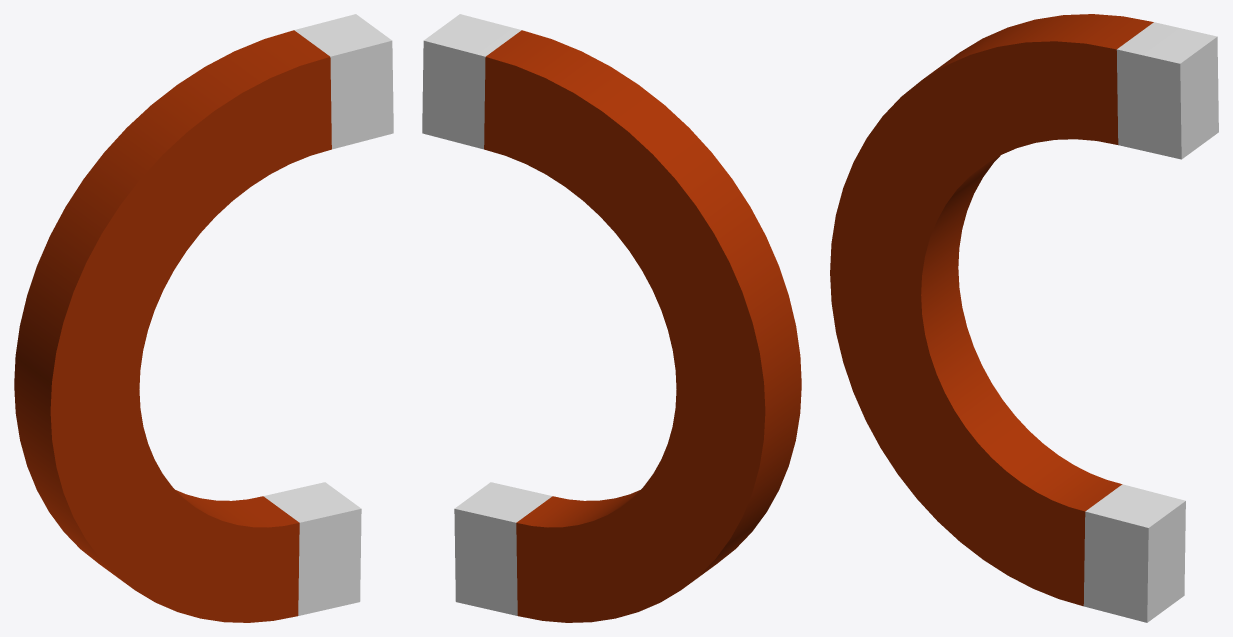
File: Magnet.fbx
The picture shows the model from 3 angles, left to right: view 1: azimuth 30°, elevation 25°; view 2: azimuth 150°, elevation 25°; view 3: azimuth 330°, elevation 25°; orthographic projection. The views are drawn at different scales.
Parts seen in each view (by area): view 1: pCube2; view 2: pCube2; view 3: pCube2.
Boxes of the visible parts, x1=… form: pCube2: x1=14, y1=14, x2=393, y2=622; pCube2: x1=422, y1=14, x2=801, y2=622; pCube2: x1=830, y1=14, x2=1218, y2=622.
Size of the model in its own units: 3.86 by 5.95 by 0.7087.
